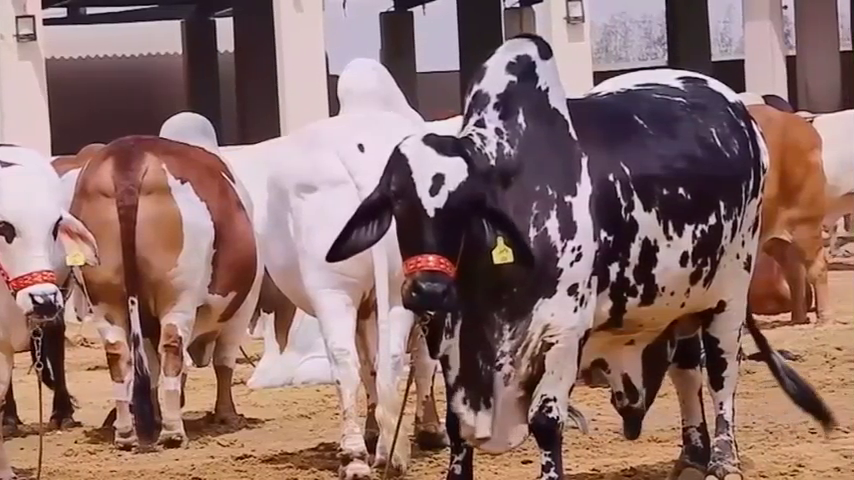bo: (300, 17, 789, 480), (247, 63, 467, 480), (58, 111, 277, 462), (1, 144, 111, 468), (736, 90, 839, 330)
